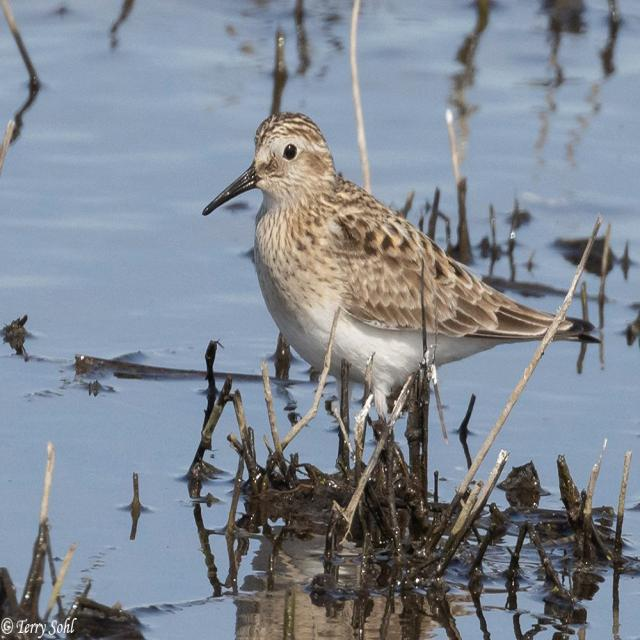Sandpiper: (199, 102, 588, 457)
